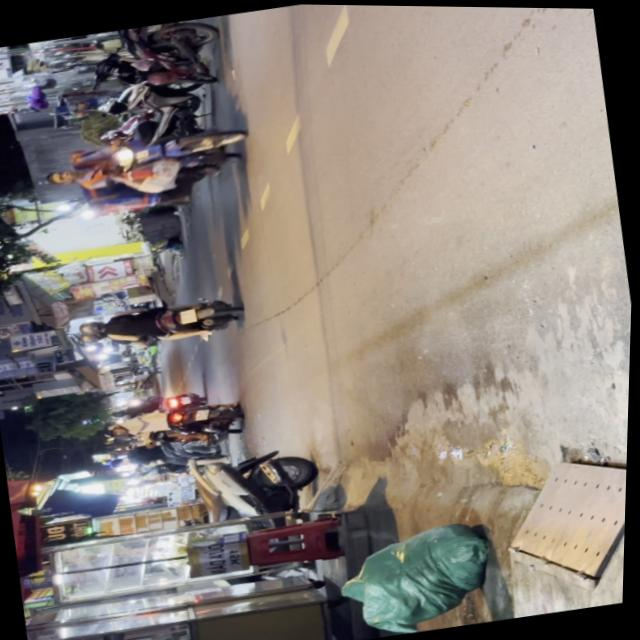helmet: (79, 318, 105, 334)
licenseplate: (39, 117, 254, 210), (75, 287, 245, 356)
motorcyclist: (45, 165, 80, 186)
nohelmet: (181, 307, 199, 322)
